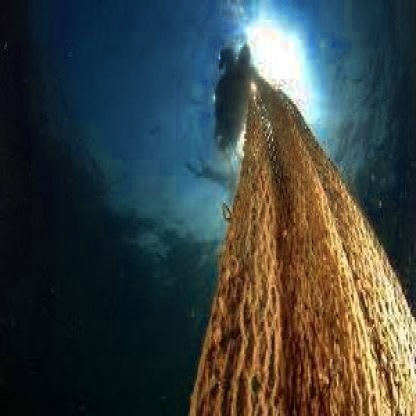net: (194, 86, 416, 416)
